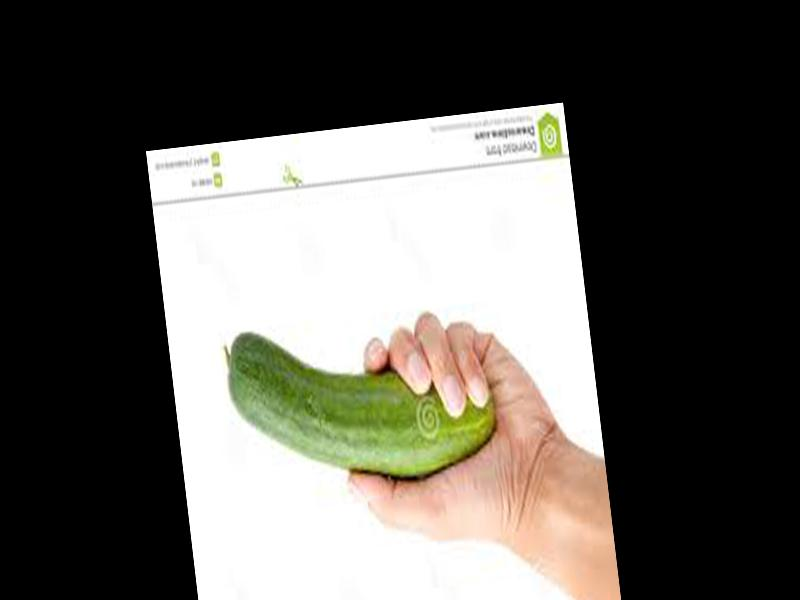Cucumber: (221, 304, 500, 493)
